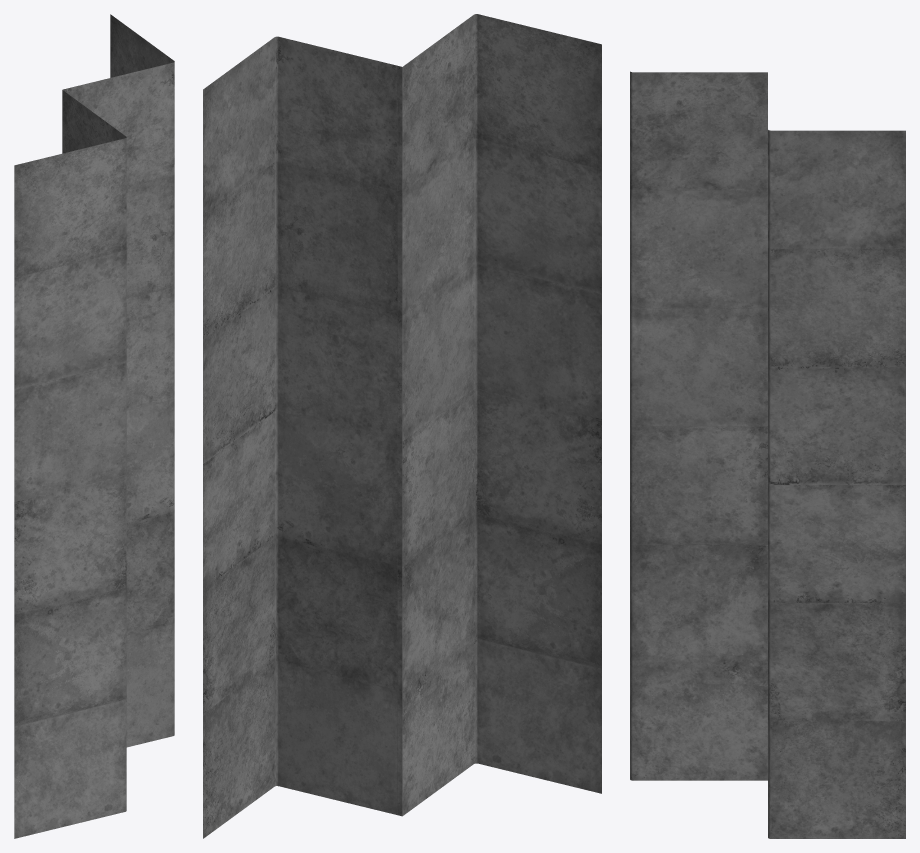
File: SM_Wall_20.fbx
The picture shows the model from 3 angles, left to right: view 1: azimuth 30°, elevation 25°; view 2: azimuth 150°, elevation 25°; view 3: azimuth 270°, elevation 25°; orthographic projection. The views are drawn at different scales.
Visible parts, largest first — view 1: SM_Wall_20; view 2: SM_Wall_20; view 3: SM_Wall_20.
Part boxes in pixels (<box>): SM_Wall_20: <box>14,14,174,838</box>; SM_Wall_20: <box>203,14,601,838</box>; SM_Wall_20: <box>630,71,905,838</box>.
Size of the model in its own units: 200 by 567 by 200.
